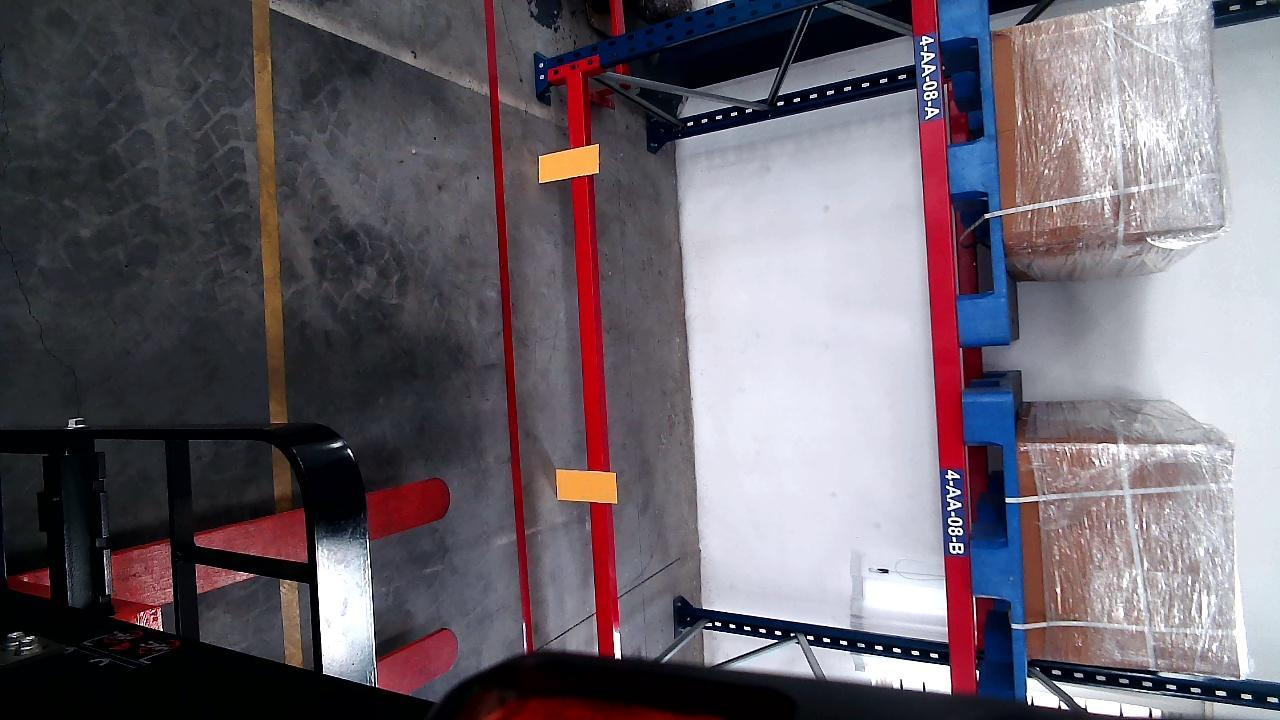red_line: (480, 1, 532, 650)
yellow_line: (254, 1, 302, 669)
